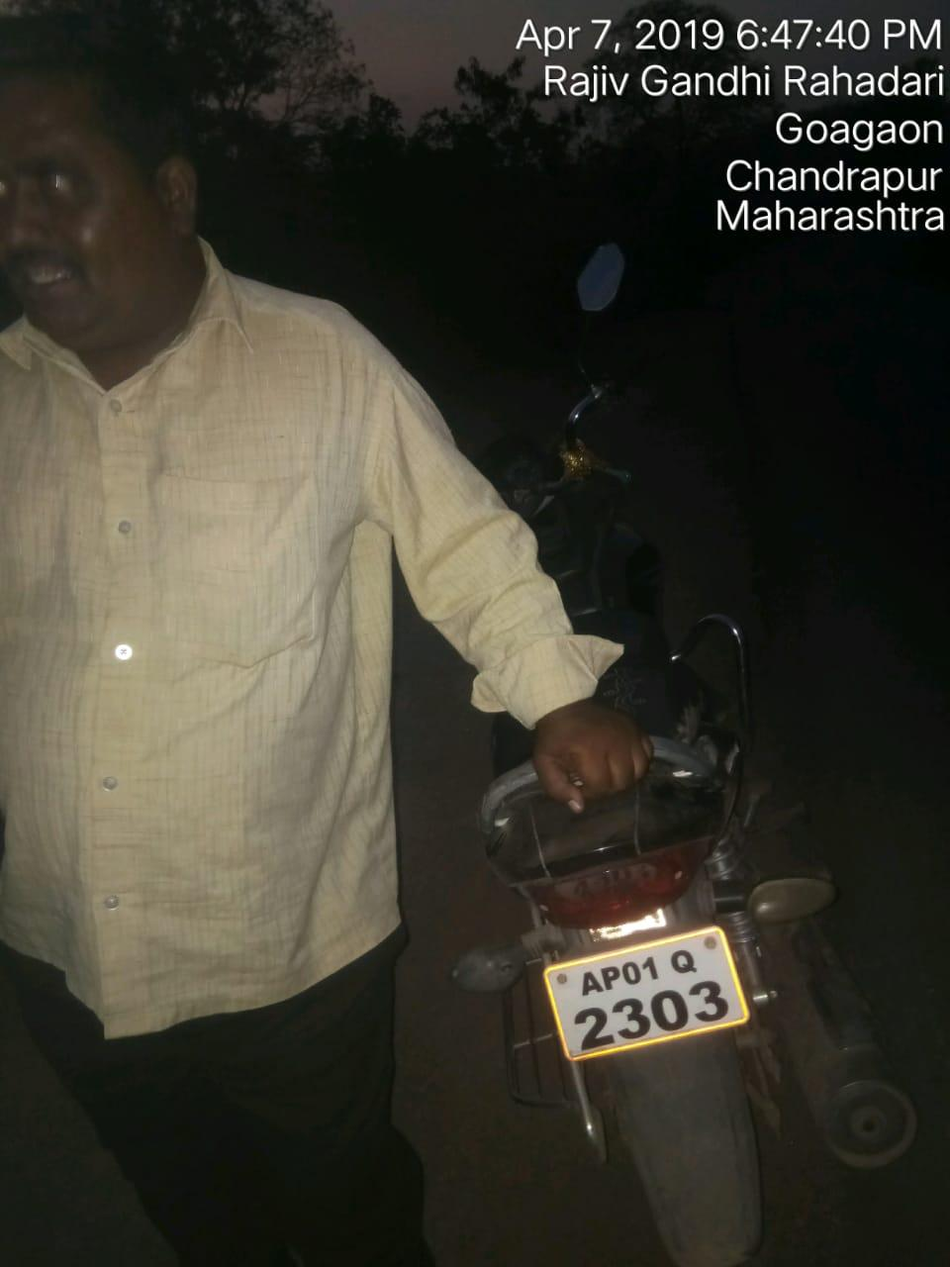plate: (513, 909, 767, 1081)
